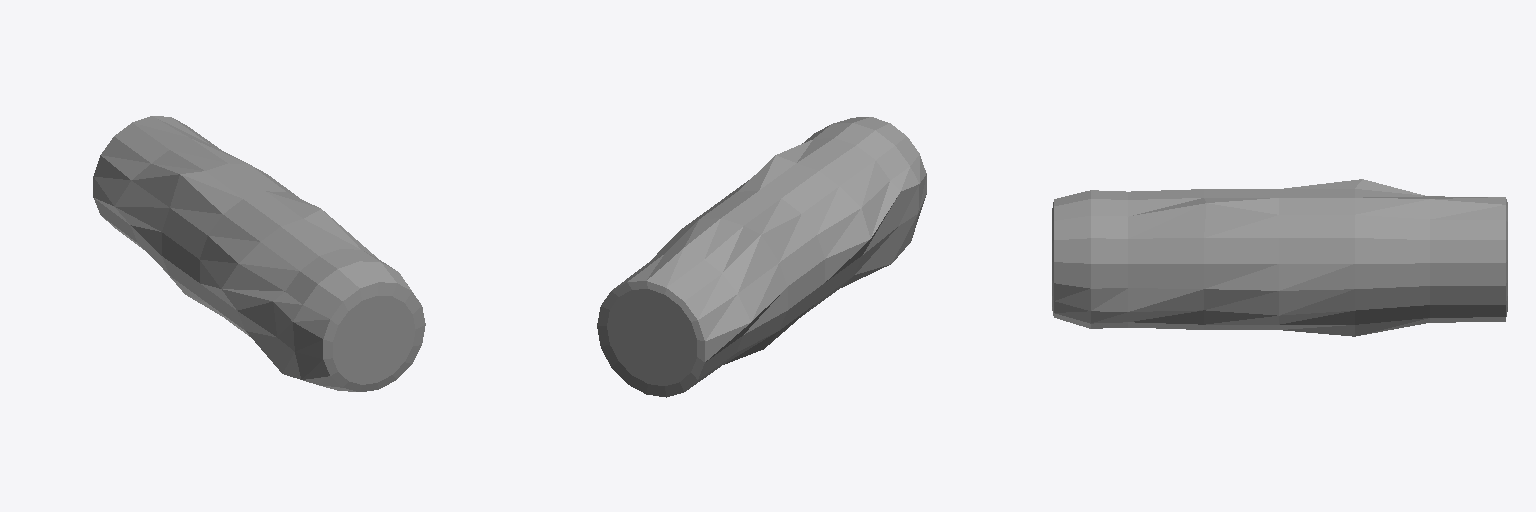
Rendered from wood2.obj.
The picture shows the model from 3 angles: view 1: azimuth 30°, elevation 25°; view 2: azimuth 150°, elevation 25°; view 3: azimuth 270°, elevation 25°; orthographic projection.
Visible parts, largest first — view 1: Wood.002_Cylinder.007; view 2: Wood.002_Cylinder.007; view 3: Wood.002_Cylinder.007.
Part boxes in pixels (left/top/right/bottom): Wood.002_Cylinder.007: left=93, top=116, right=425, bottom=391; Wood.002_Cylinder.007: left=597, top=117, right=926, bottom=397; Wood.002_Cylinder.007: left=1052, top=179, right=1507, bottom=336.
Bounding box in the file's own units: 2.23 × 2.07 × 6.4.